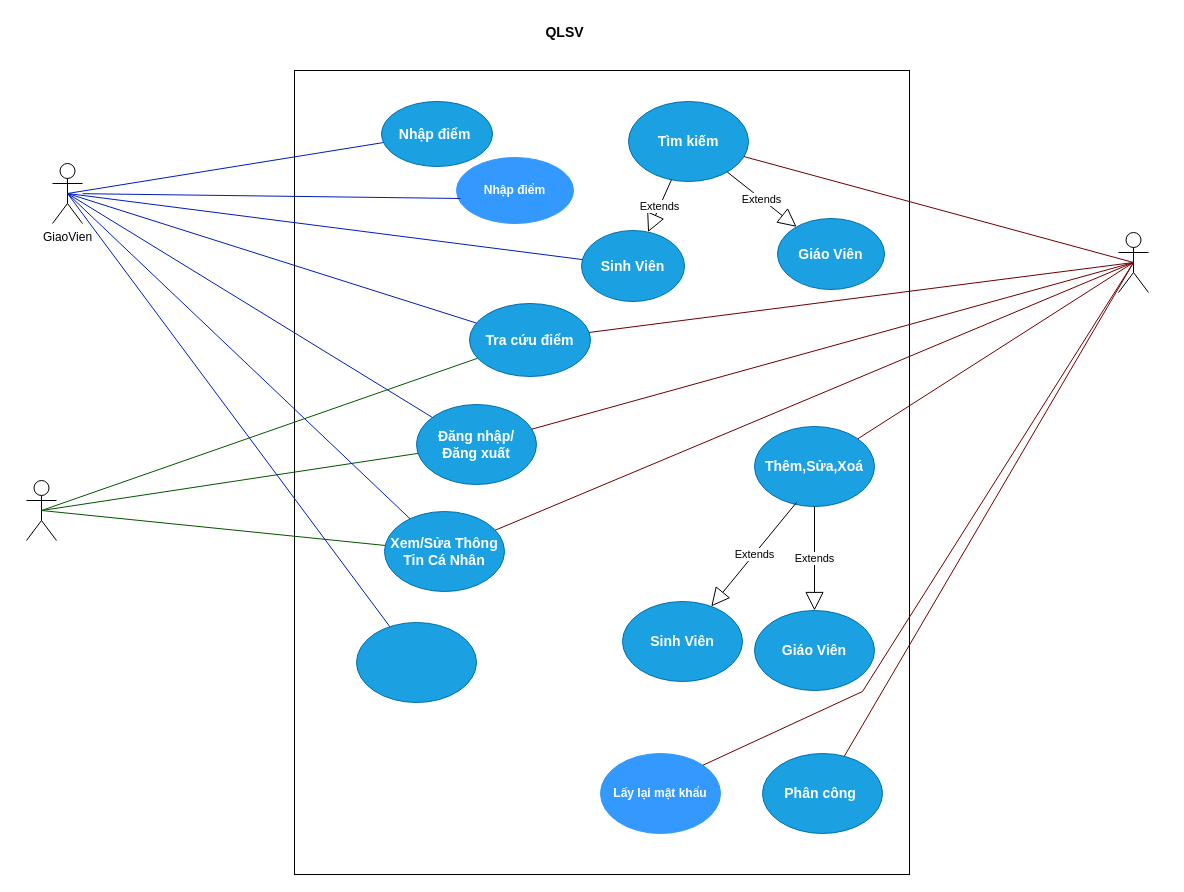
This 1184x892 diagram has some shape labels left out. Each missing label, with the box of its shape:
Báo cáo điểm: (356, 622, 476, 702)
QuanTriVien: (1118, 232, 1148, 292)
SinhVien: (26, 480, 56, 540)
